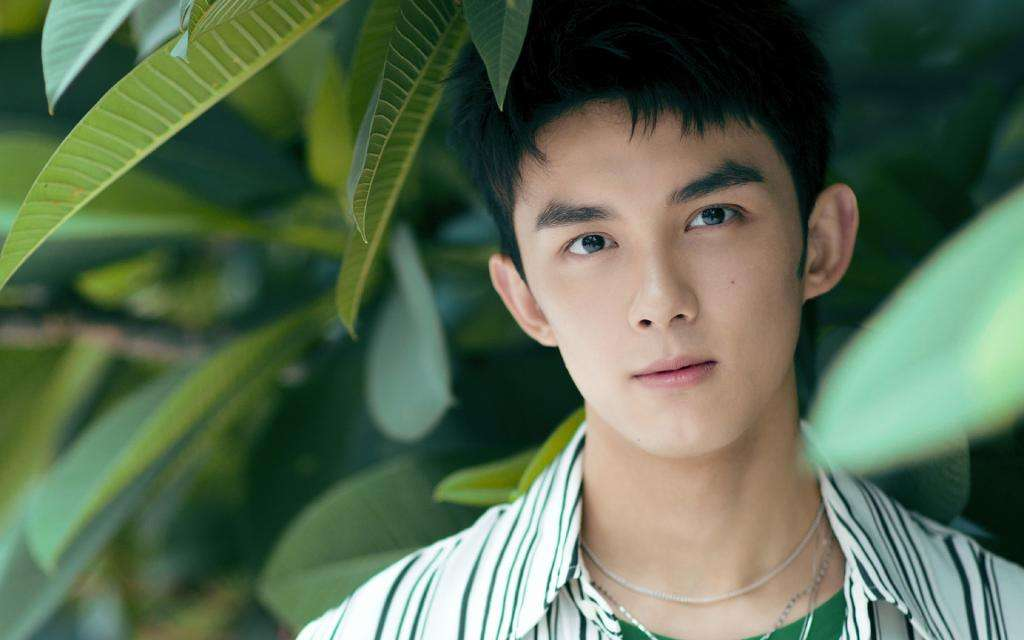person: (438, 34, 939, 640)
